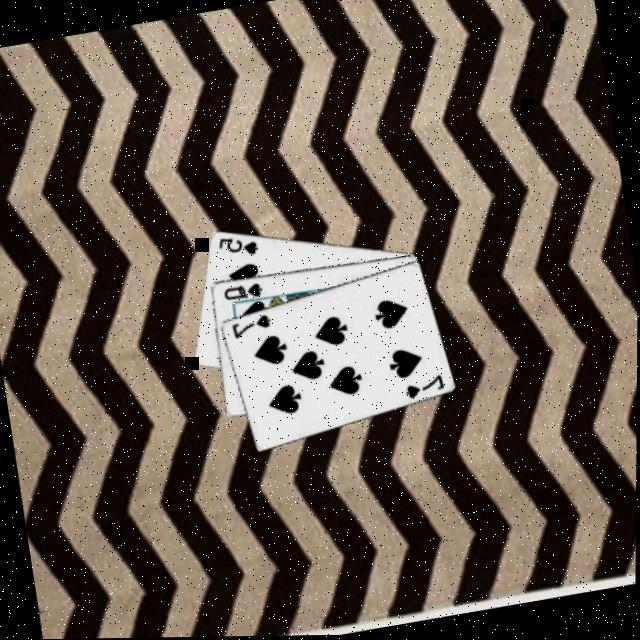5S: (212, 230, 260, 266)
7S: (226, 312, 274, 344), (398, 372, 446, 404)
QS: (218, 279, 265, 307)
